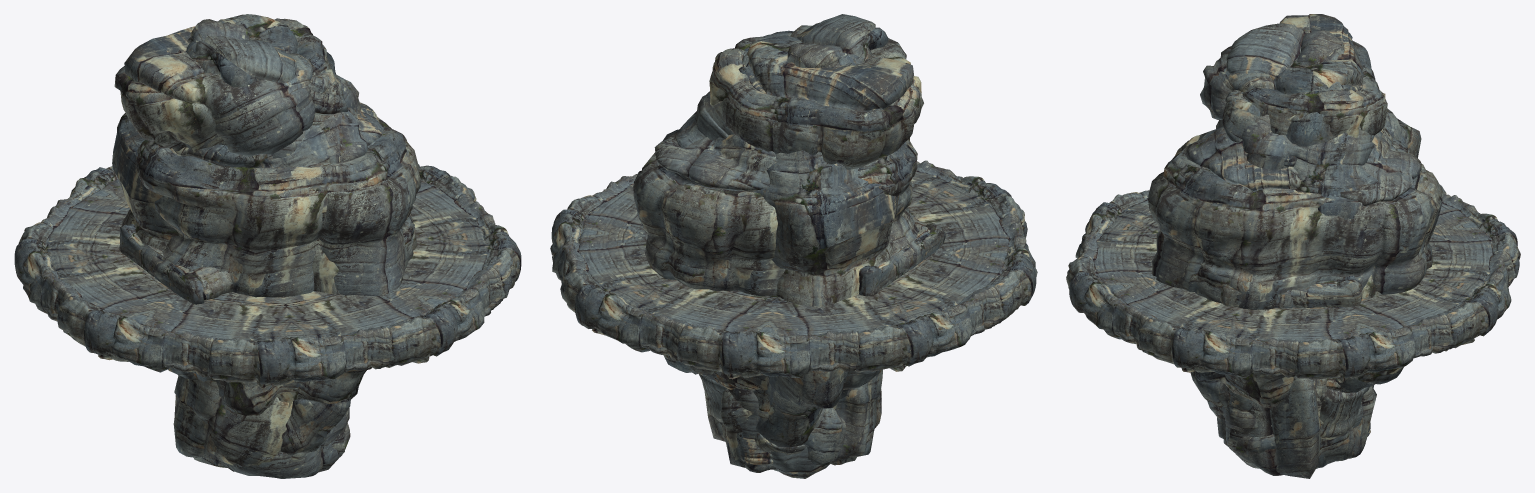
Rendered from SM_Shan_Shi_002.fbx.
3 renders of one model, left to right at view 1: azimuth 30°, elevation 25°; view 2: azimuth 150°, elevation 25°; view 3: azimuth 270°, elevation 25°, orthographic. The views are drawn at different scales.
Parts seen in each view (by area): view 1: g, e, c, a, f, i; view 2: g, e, c, f, a, i; view 3: g, e, a, c, f, i.
Part boxes in pixels (<box>): g: <box>14,164,521,388</box>; e: <box>135,102,420,455</box>; c: <box>114,14,350,478</box>; a: <box>173,19,347,472</box>; f: <box>112,73,361,382</box>; i: <box>119,224,416,304</box>; g: <box>550,160,1037,379</box>; e: <box>633,111,928,422</box>; c: <box>709,25,923,478</box>; f: <box>663,91,898,454</box>; a: <box>704,14,888,474</box>; i: <box>647,220,945,296</box>; g: <box>1066,185,1520,382</box>; e: <box>1148,126,1443,439</box>; a: <box>1222,23,1376,478</box>; c: <box>1200,14,1387,454</box>; f: <box>1242,108,1421,392</box>; i: <box>1220,275,1362,308</box>.
Bounding box in the file's own units: 4725 × 4725 × 4651.
